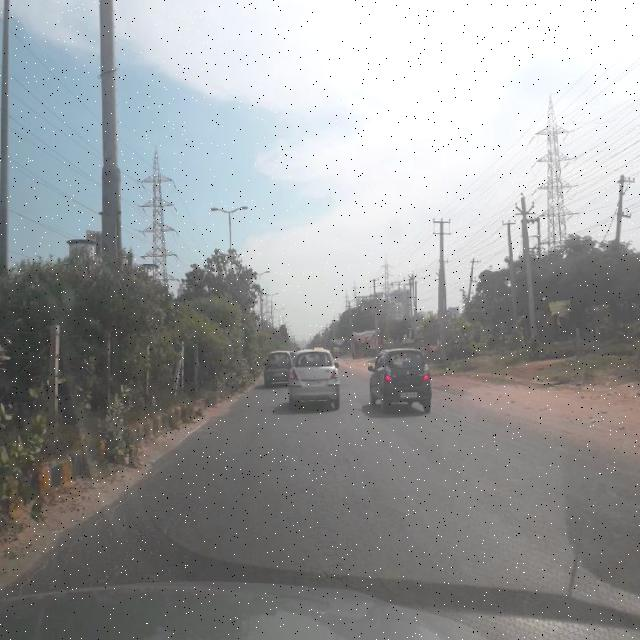D00: (38, 470, 144, 566)
D20: (33, 419, 637, 584)
